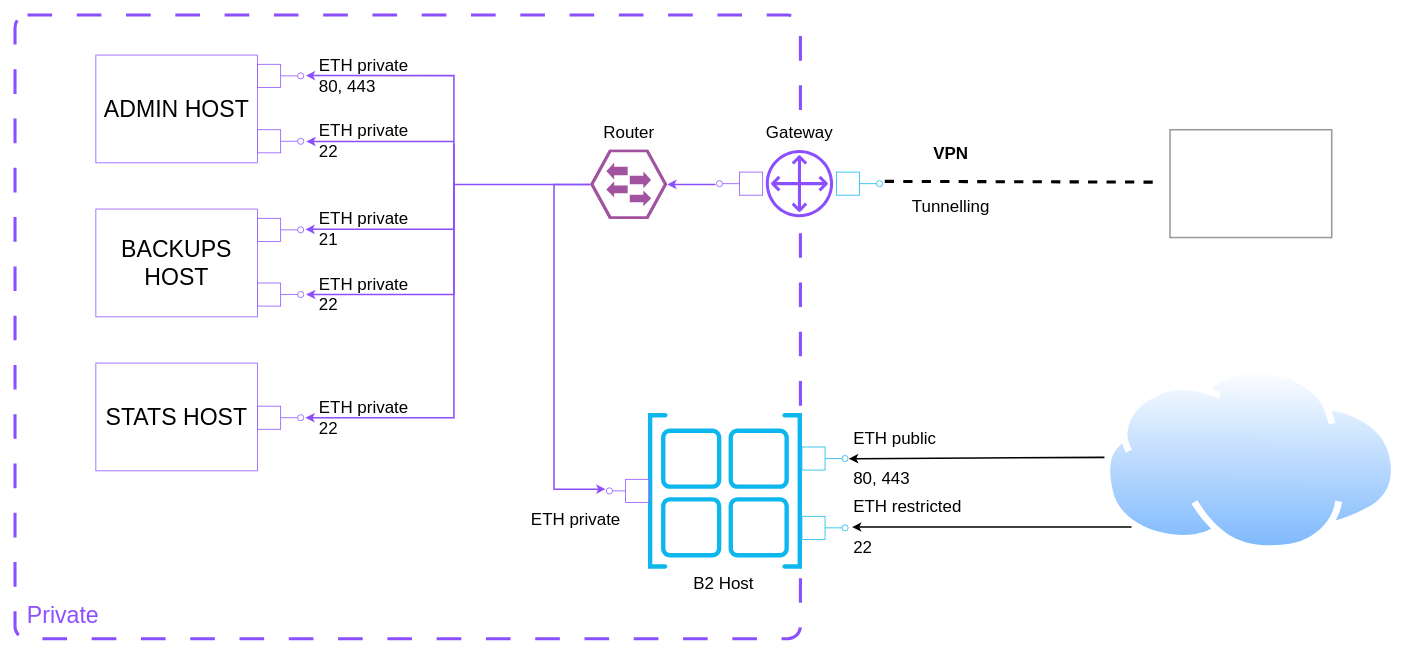
The diagram is 1411 pixels wide and 653 high, and some of its shapes have lost their labels. The centre of each missing label's shape, as x and y in pixels:
"CLOUD" goes at (x=1250, y=459).
"👨‍💼Admin" goes at (x=1250, y=183).
